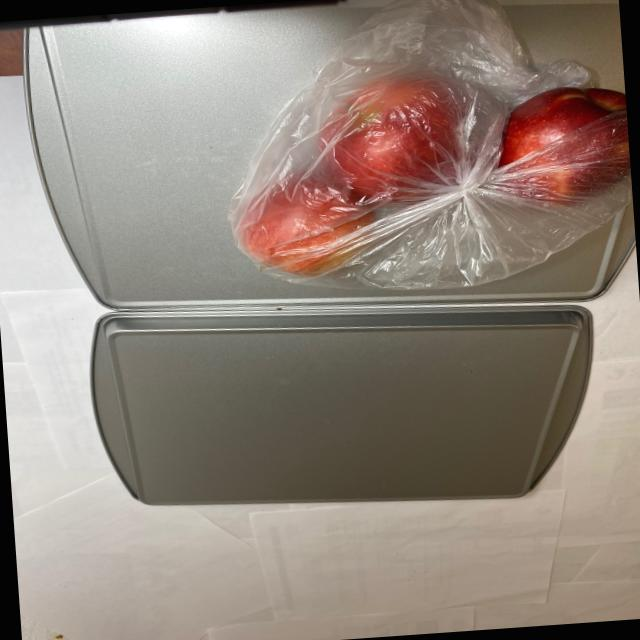apple: (220, 38, 632, 284)
